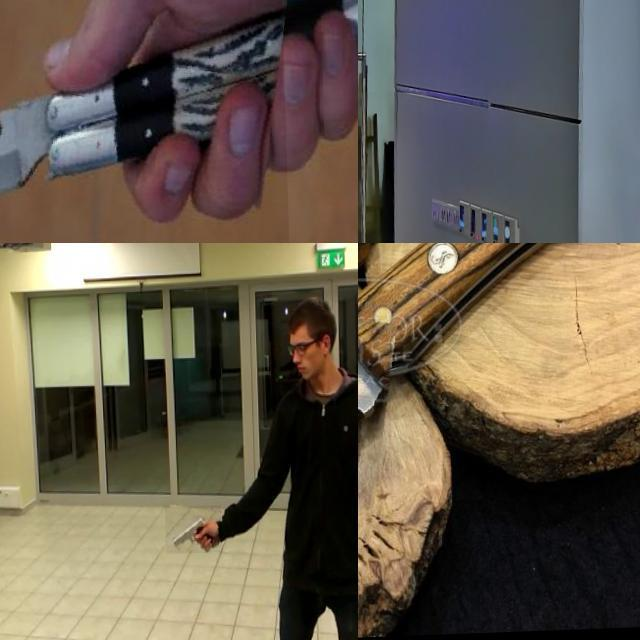-: (0, 0, 286, 243), (358, 289, 528, 594), (358, 243, 578, 336)
gun-knife-thesis - v11 Yolov5 augmented: (162, 508, 220, 556)
